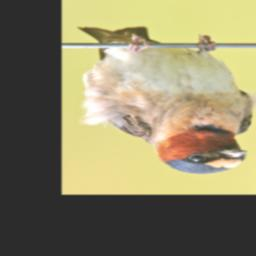Swallow: (77, 25, 256, 175)
